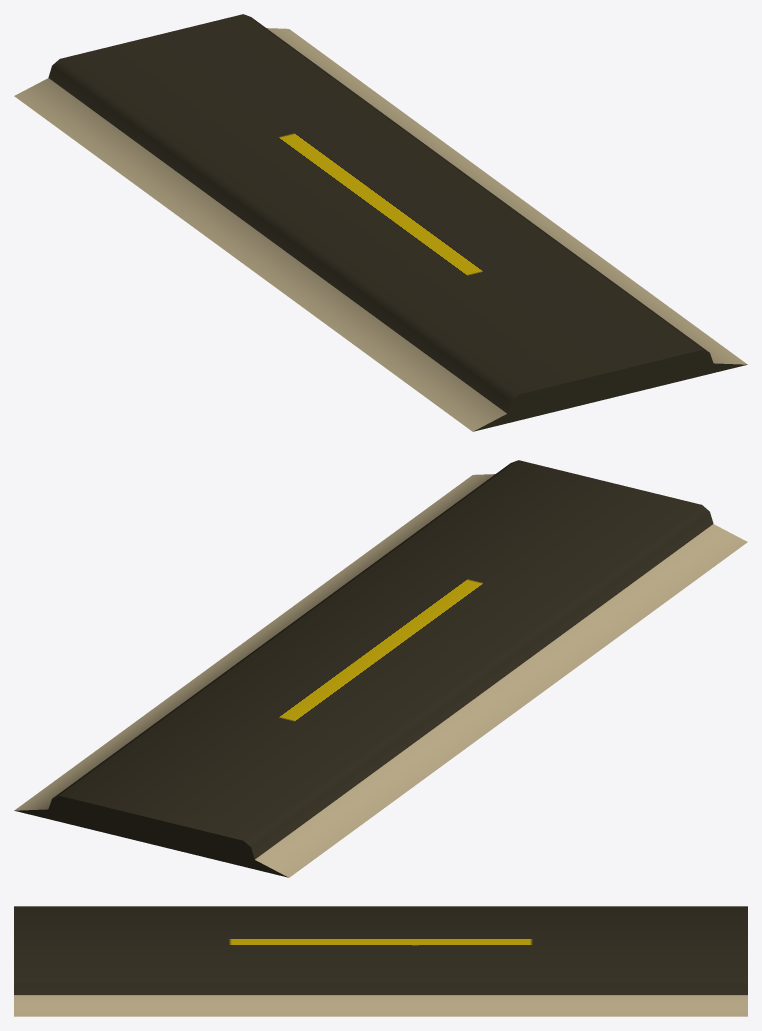
The model's file is Hillside_Road00.fbx.
The picture shows the model from 3 angles, top to bottom: view 1: azimuth 30°, elevation 25°; view 2: azimuth 150°, elevation 25°; view 3: azimuth 270°, elevation 25°; orthographic projection. The views are drawn at different scales.
Visible parts, largest first — view 1: Raod00; view 2: Raod00; view 3: Raod00.
Boxes of the visible parts, x1,y1,x2,y2 form: Raod00: [14, 14, 747, 431]; Raod00: [14, 460, 747, 877]; Raod00: [14, 906, 747, 1016].
Bounding box in the file's own units: 0.3 × 0.0271 × 0.866.
